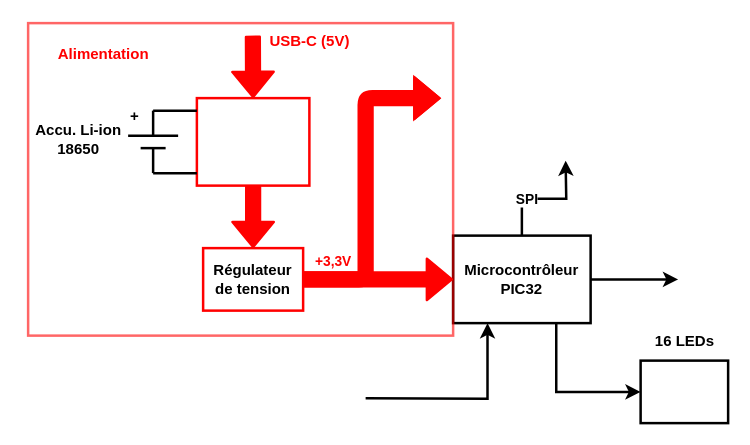
This 750x445 diagram has some shape labels left out. The box of each missing label's shape, as (x1, y1, x2, y2) in pixels:
Contrôleur de charge: (195, 96, 310, 186)
Interface lumineuse: (639, 359, 729, 424)
